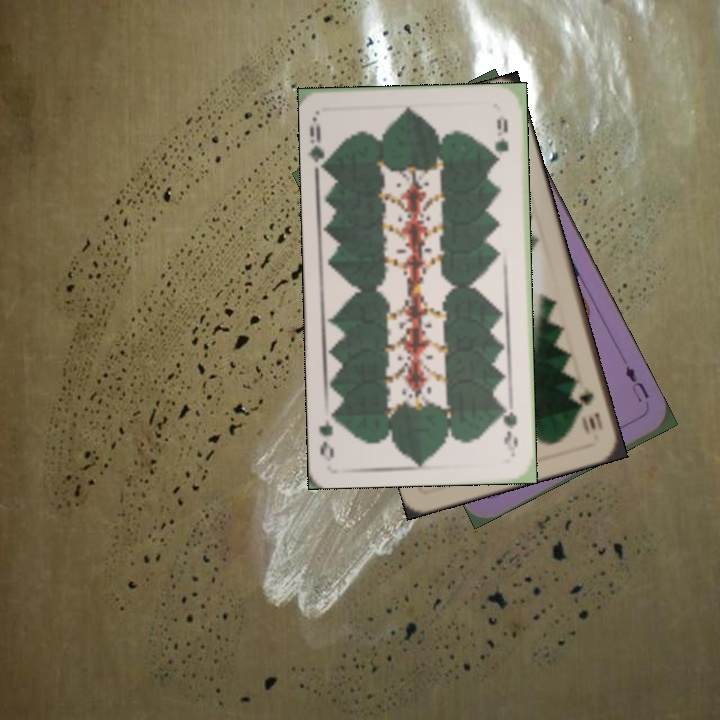EU: (621, 361, 652, 405)
G10: (575, 383, 606, 434)
G9: (306, 113, 334, 172), (499, 398, 520, 457)
